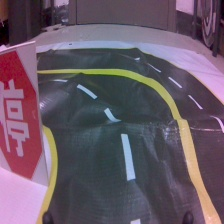stop: (1, 40, 49, 185)
